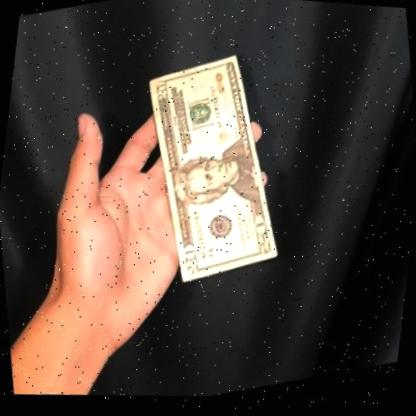twenty-front: (117, 37, 296, 304)
